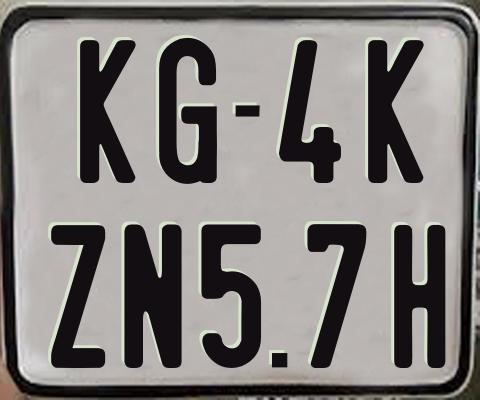4: (277, 38, 341, 184)
5: (200, 222, 266, 372)
7: (307, 222, 368, 366)
G: (157, 37, 219, 189)
H: (392, 224, 446, 367)
K: (80, 38, 138, 184), (366, 39, 422, 187)
N: (122, 223, 182, 367)
Z: (50, 223, 110, 370)
